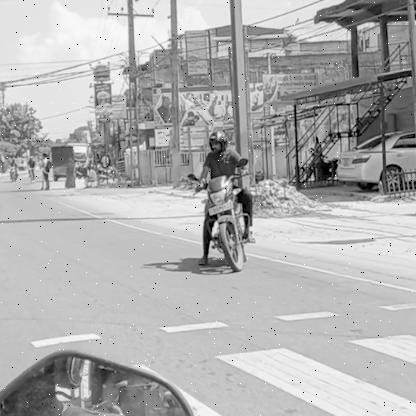motorcycle: (189, 176, 261, 274)
